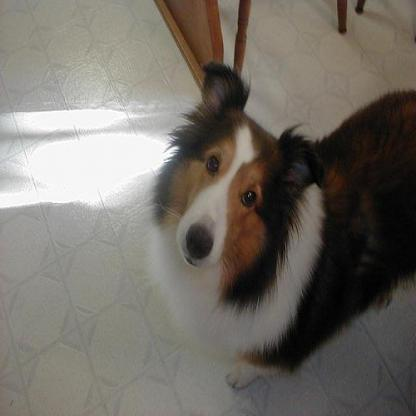Shetland_sheepdog: (136, 59, 414, 388)
